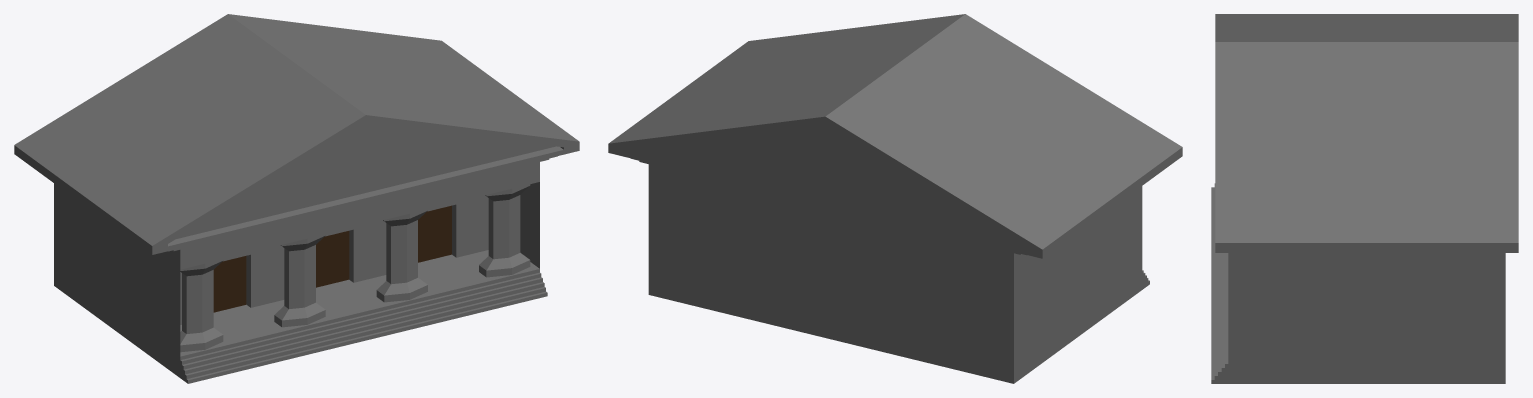
Rendered from building1.glb.
3 views of the same model, side by side, from view 1: azimuth 30°, elevation 25°; view 2: azimuth 150°, elevation 25°; view 3: azimuth 270°, elevation 25° (orthographic). The views are drawn at different scales.
Visible parts, largest first — view 1: Building7; view 2: Building7; view 3: Building7.
Boxes of the visible parts, x1,y1,x2,y2 form: Building7: [14, 14, 579, 383]; Building7: [608, 14, 1182, 383]; Building7: [1211, 14, 1518, 383].
Size of the model in its own units: 300 by 150 by 170.
